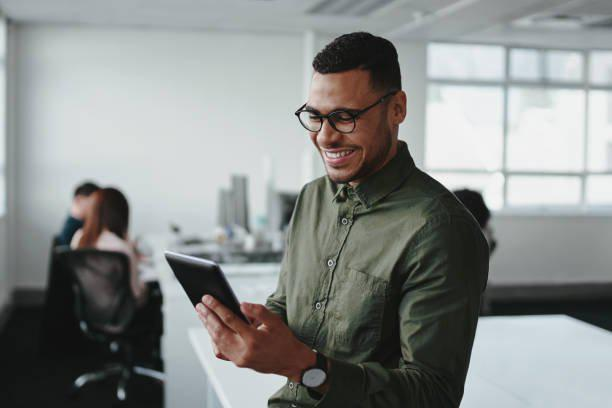Sober: (308, 79, 380, 170)
